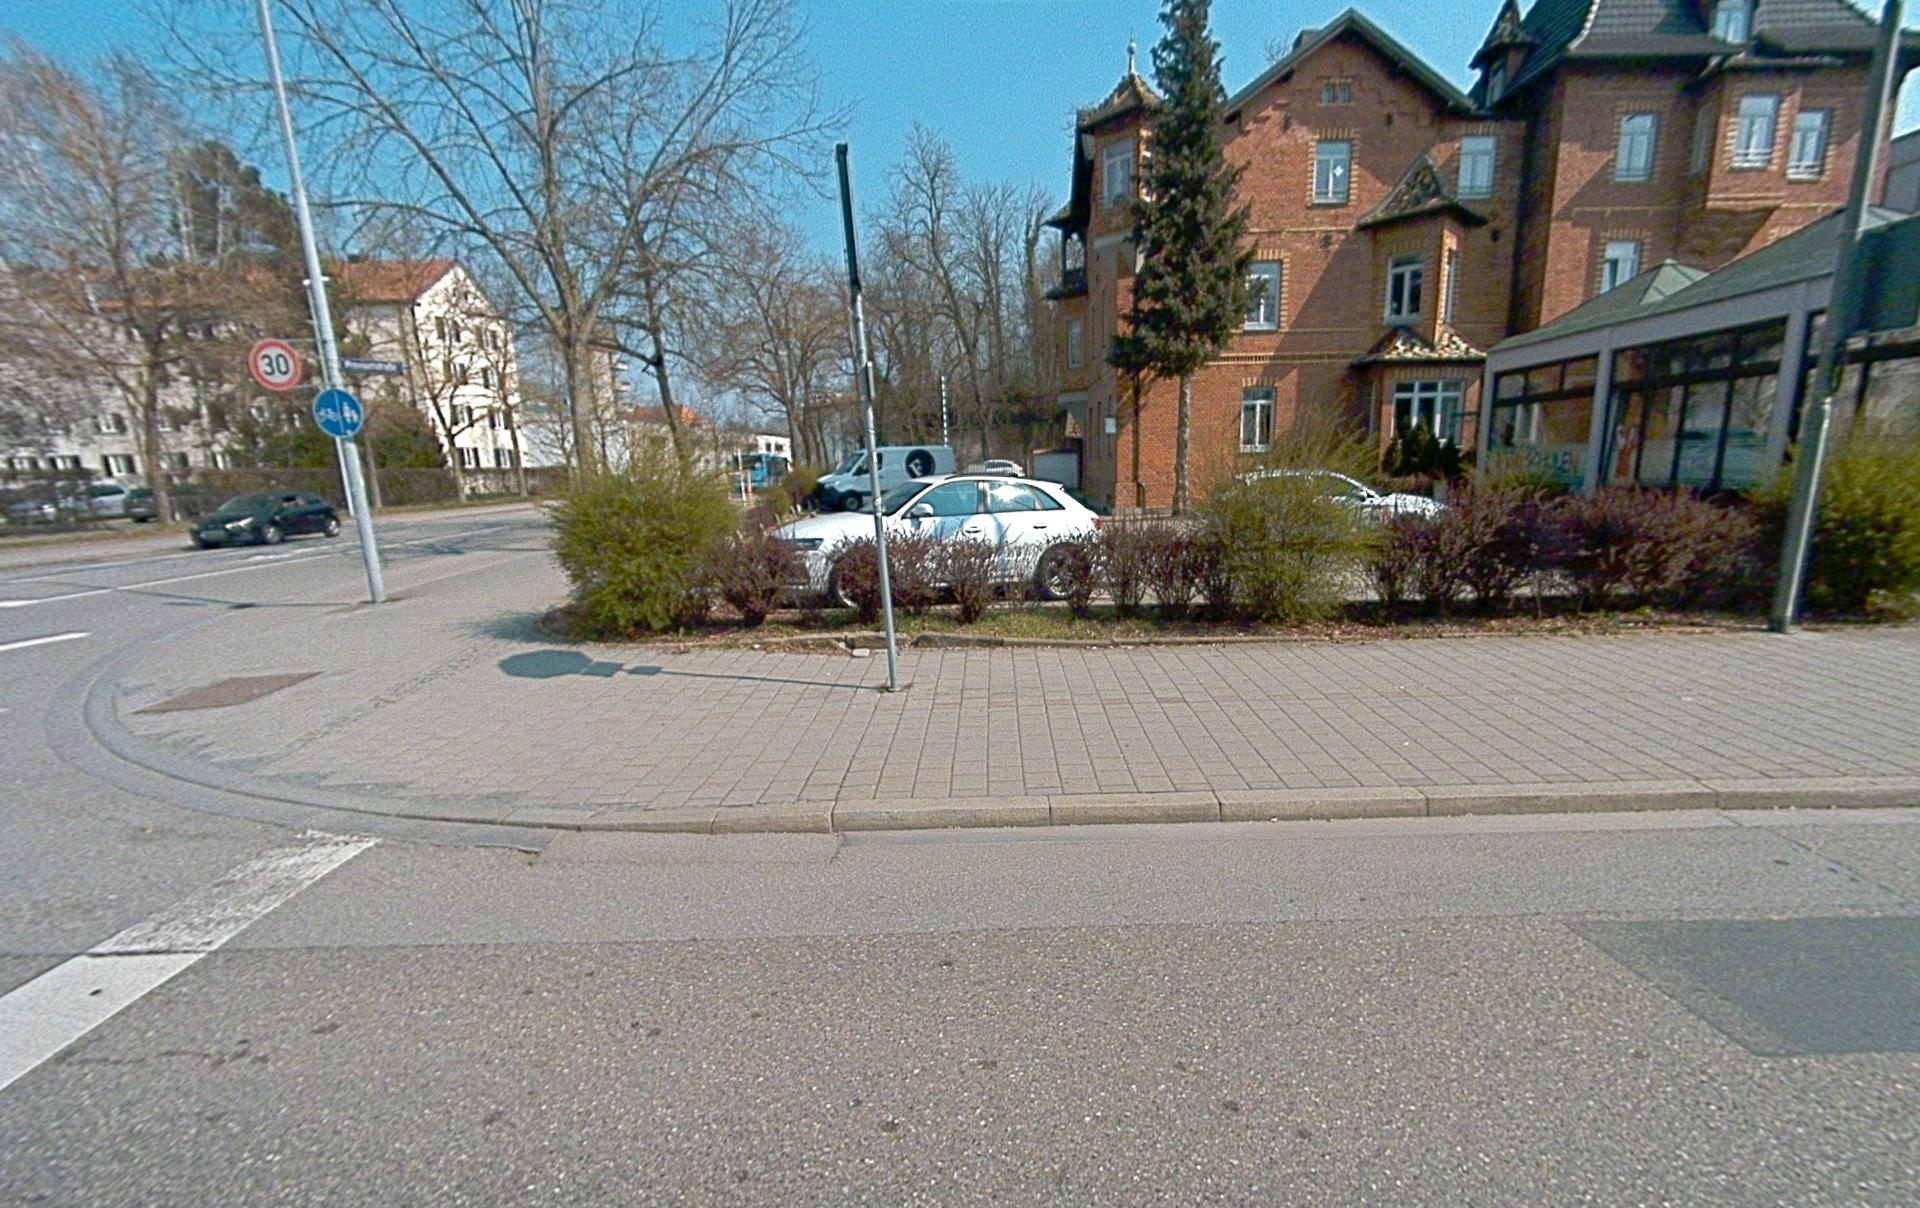car: (762, 472, 1106, 608), (1220, 468, 1451, 532), (810, 445, 957, 514), (189, 491, 341, 548)
traffic sign: (248, 338, 303, 392), (312, 388, 366, 438), (341, 358, 405, 376)
